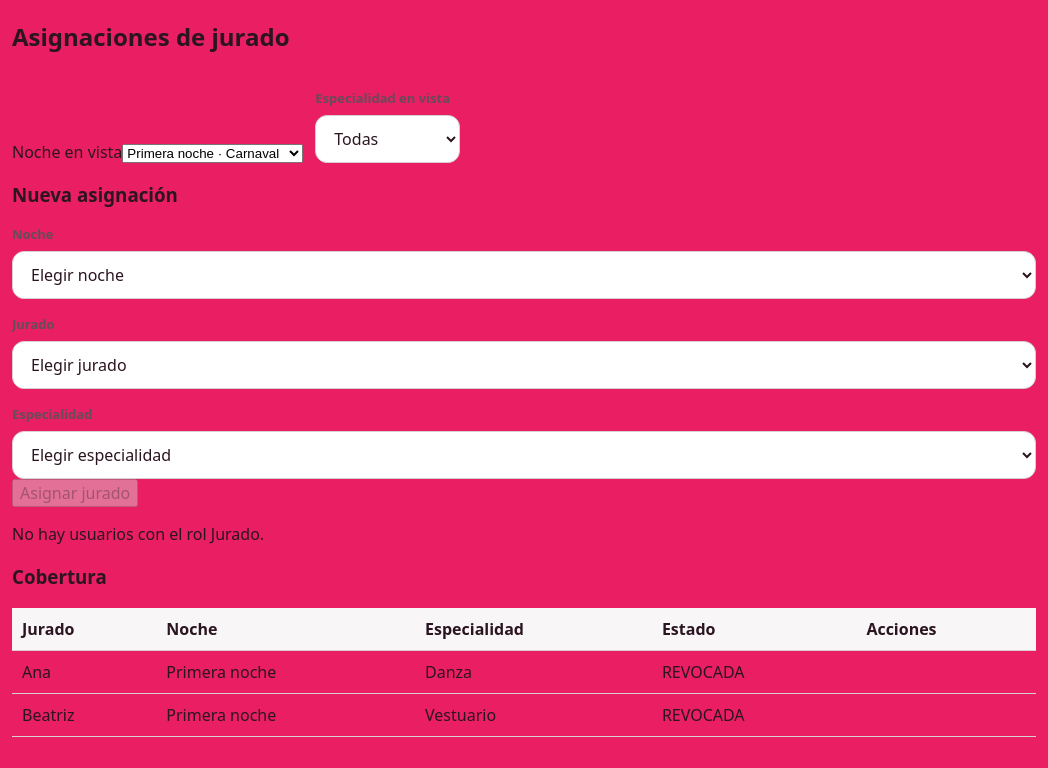
Scenario: filters coverage by specialty within the selected night
Expected: the text "Ana" is shown, x1=12 y1=650 x2=156 y2=693
Select "Danza (D)" in the dropdown labelled "Especialidad en vista" at [388, 139], box x1=315 y1=115 x2=460 y2=163
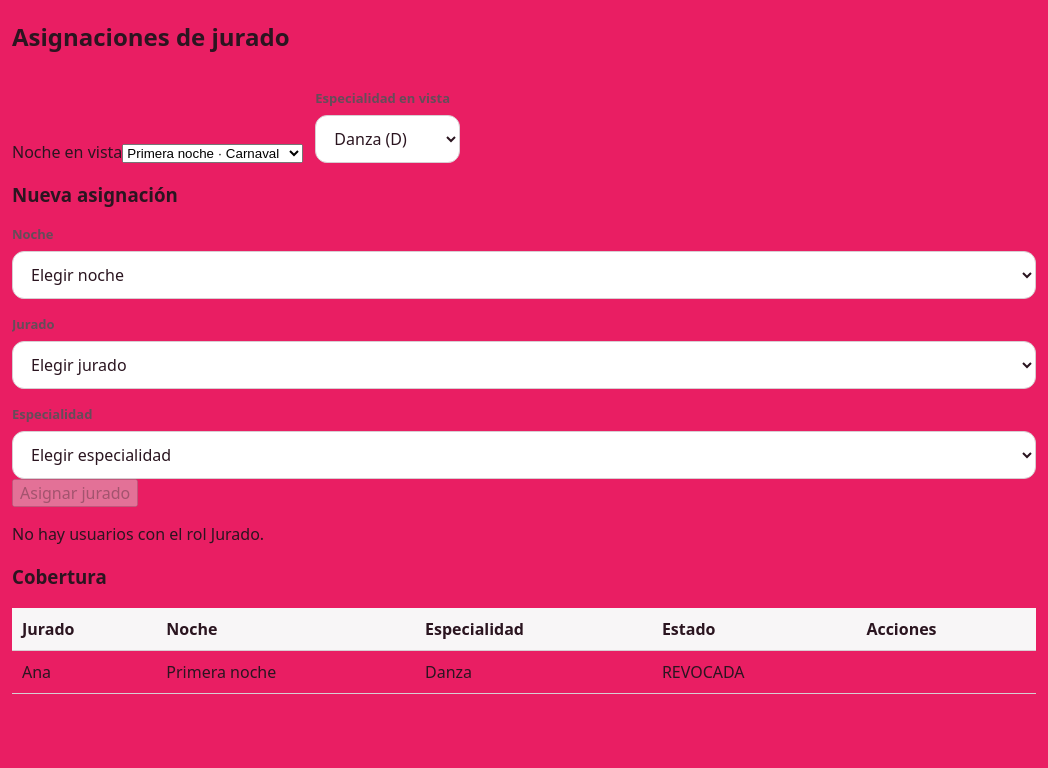
Expected: the text "Ana" is shown, x1=12 y1=650 x2=156 y2=693
Expected: the text "Beatriz" is gone
